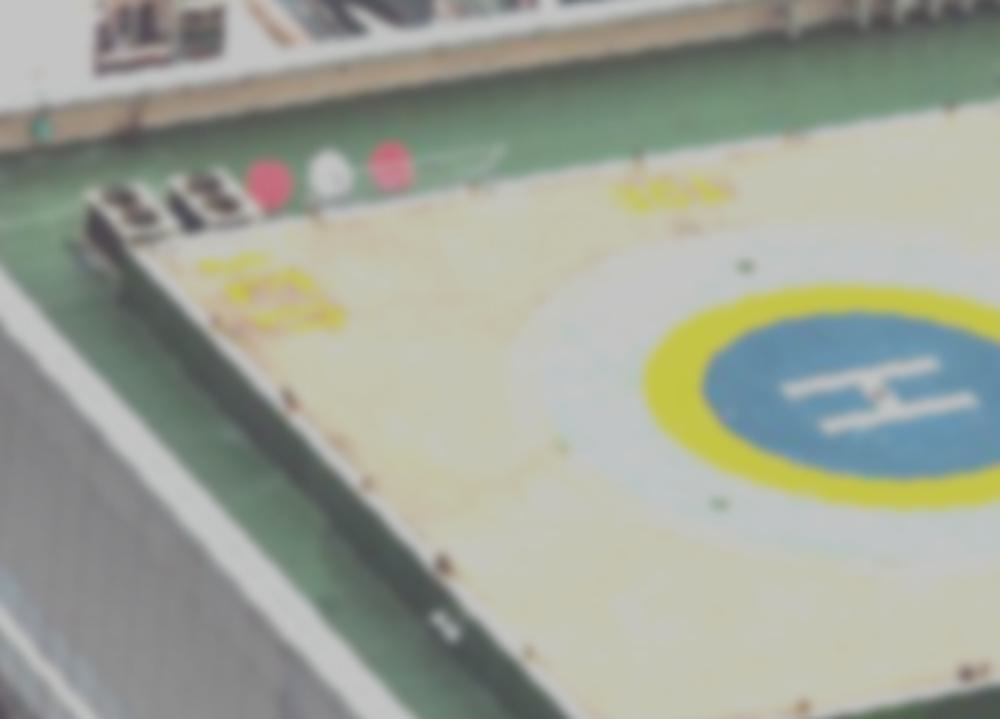Apron: (614, 269, 1000, 558)
